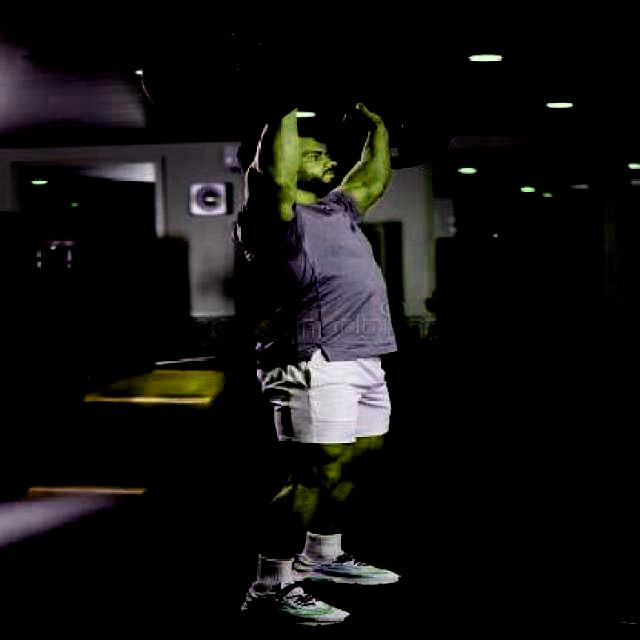barbell: (133, 5, 330, 136)
